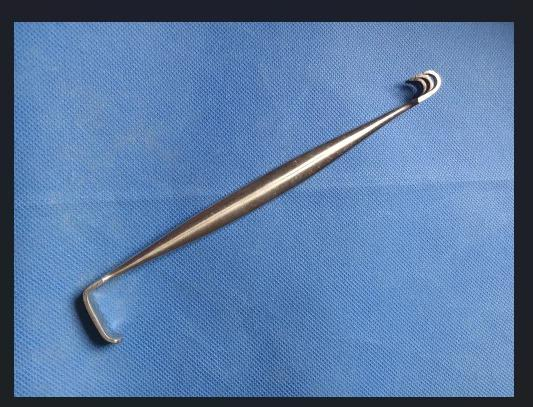Senn Retractor: (74, 60, 451, 356)
